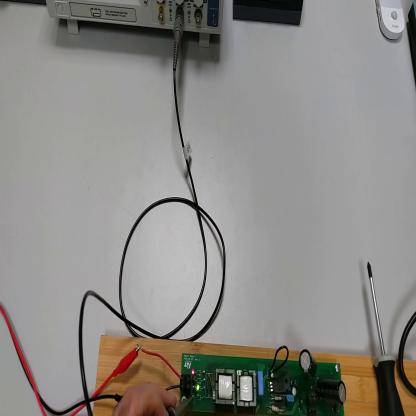hand: (115, 381, 176, 415)
high voltage board: (140, 347, 347, 416)
oscilloscope: (51, 2, 224, 51)
oscilloscope probe tip: (168, 398, 195, 416)
screwdriver-: (365, 262, 405, 415)
working area: (93, 337, 416, 415)
